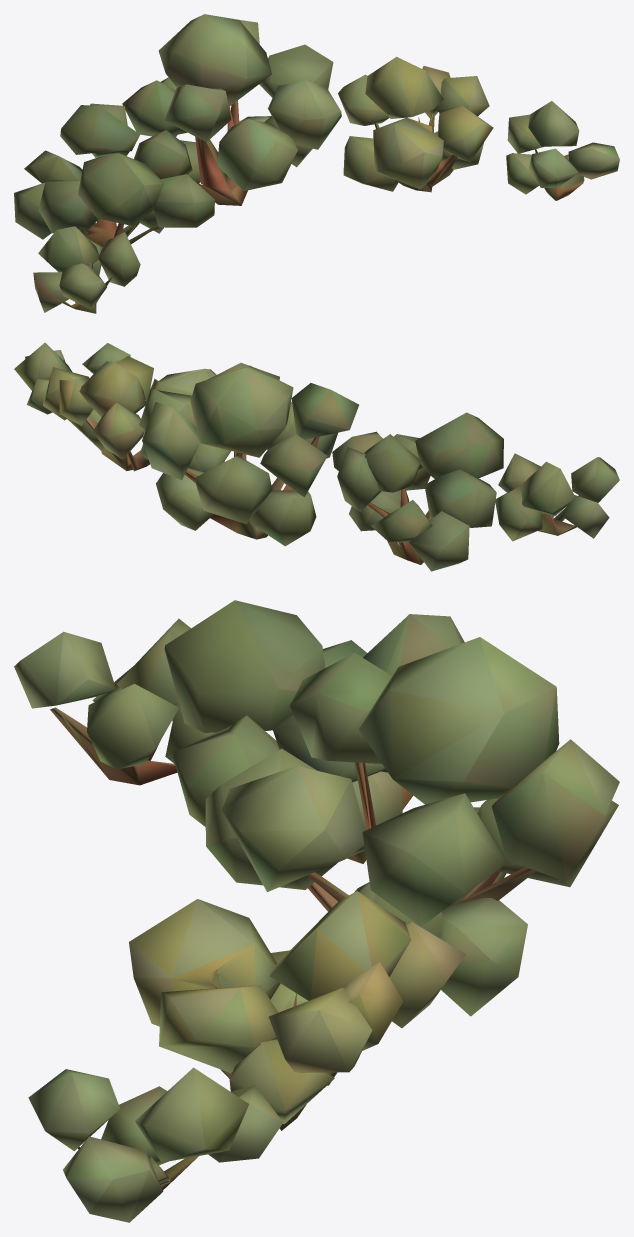
Rendered from shrub-1.glb.
The picture shows the model from 3 angles, top to bottom: view 1: azimuth 30°, elevation 25°; view 2: azimuth 150°, elevation 25°; view 3: azimuth 270°, elevation 25°; orthographic projection. The views are drawn at different scales.
Visible parts, largest first — view 1: shrub-1; view 2: shrub-1; view 3: shrub-1.
Boxes of the visible parts, left/top/right/bottom form: shrub-1: left=14, top=14, right=619, bottom=313; shrub-1: left=14, top=342, right=619, bottom=571; shrub-1: left=14, top=600, right=619, bottom=1222.
Size of the model in its own units: 0.9995 by 0.2954 by 0.4878.
1 material, 1 textured.
